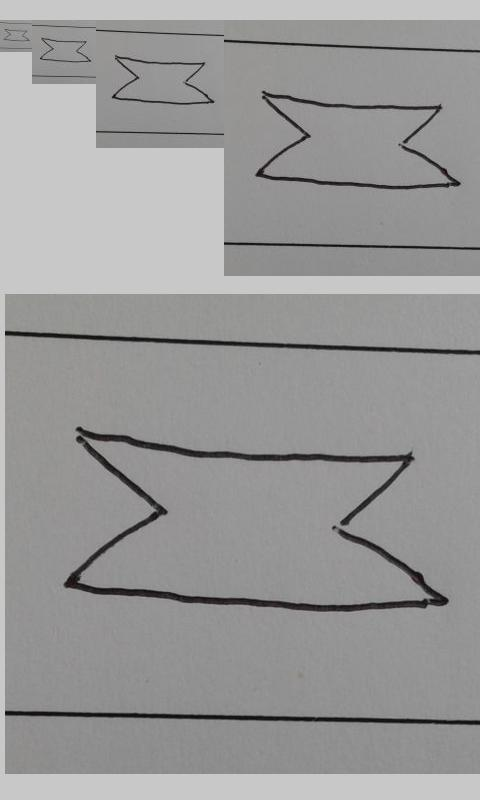edit_text: (61, 424, 448, 613), (255, 90, 463, 191), (111, 55, 216, 106), (40, 37, 91, 63), (3, 29, 30, 42)
